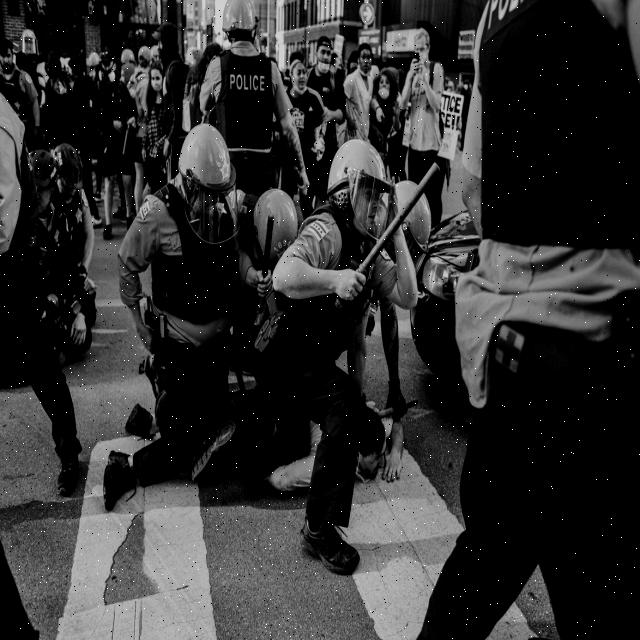police: (228, 140, 437, 561), (105, 113, 262, 535), (185, 0, 312, 271)
